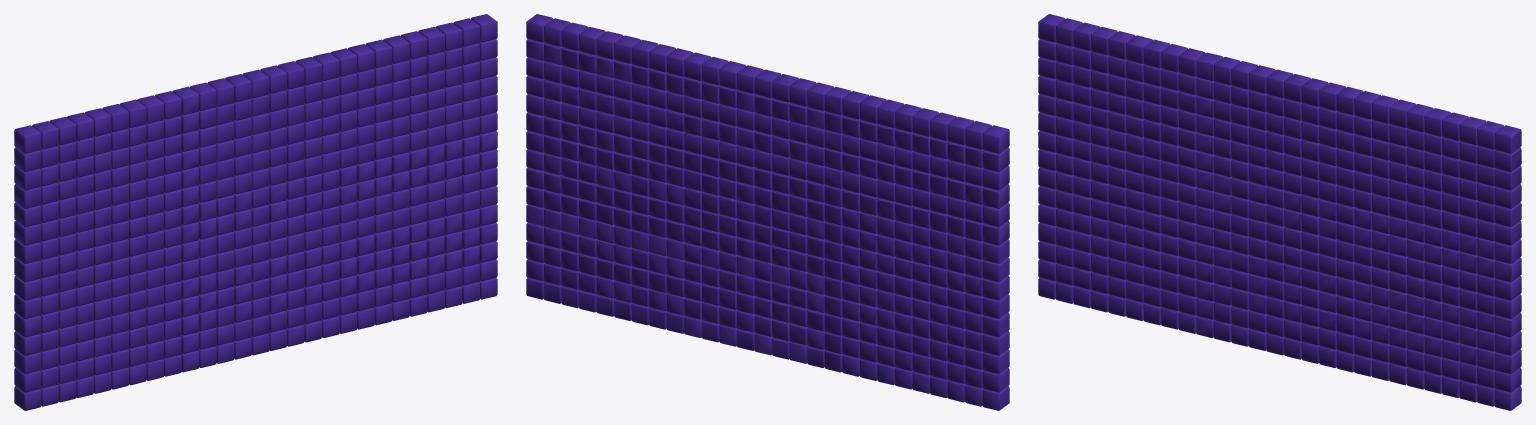
Rendered from back3.glb.
3 views of the same model, side by side, from view 1: azimuth 30°, elevation 25°; view 2: azimuth 150°, elevation 25°; view 3: azimuth 330°, elevation 25° (orthographic).
Visible parts, largest first — view 1: ICOM LOGO.622, ICOM LOGO.271, ICOM LOGO.379, ICOM LOGO.568, ICOM LOGO.325, ICOM LOGO.433, ICOM LOGO.460, ICOM LOGO.487, ICOM LOGO.514, ICOM LOGO.541, ICOM LOGO.595, ICOM LOGO.244 (+29 smaller); view 2: ICOM LOGO.622, ICOM LOGO.271, ICOM LOGO.352, ICOM LOGO.379, ICOM LOGO.460, ICOM LOGO.298, ICOM LOGO.406, ICOM LOGO.433, ICOM LOGO.487, ICOM LOGO.514, ICOM LOGO.568, ICOM LOGO.244 (+29 smaller); view 3: ICOM LOGO.648, ICOM LOGO.405, ICOM LOGO.297, ICOM LOGO.513, ICOM LOGO.540, ICOM LOGO.324, ICOM LOGO.459, ICOM LOGO.567, ICOM LOGO.594, ICOM LOGO.621, ICOM LOGO.486, ICOM LOGO.270 (+29 smaller).
Part boxes in pixels (bbox=[...]): ICOM LOGO.622: bbox=[14, 125, 41, 153]; ICOM LOGO.271: bbox=[14, 367, 41, 392]; ICOM LOGO.379: bbox=[14, 294, 41, 318]; ICOM LOGO.568: bbox=[14, 165, 41, 190]; ICOM LOGO.325: bbox=[14, 331, 41, 355]; ICOM LOGO.433: bbox=[14, 257, 41, 282]; ICOM LOGO.460: bbox=[14, 239, 41, 263]; ICOM LOGO.487: bbox=[14, 221, 41, 245]; ICOM LOGO.514: bbox=[14, 202, 41, 227]; ICOM LOGO.541: bbox=[14, 184, 41, 208]; ICOM LOGO.595: bbox=[14, 147, 41, 172]; ICOM LOGO.244: bbox=[14, 386, 41, 410]; ICOM LOGO.622: bbox=[982, 125, 1009, 153]; ICOM LOGO.271: bbox=[982, 367, 1009, 392]; ICOM LOGO.352: bbox=[982, 312, 1009, 337]; ICOM LOGO.379: bbox=[982, 294, 1009, 318]; ICOM LOGO.460: bbox=[982, 239, 1009, 263]; ICOM LOGO.298: bbox=[982, 349, 1009, 374]; ICOM LOGO.406: bbox=[982, 276, 1009, 300]; ICOM LOGO.433: bbox=[982, 257, 1009, 282]; ICOM LOGO.487: bbox=[982, 220, 1009, 245]; ICOM LOGO.514: bbox=[982, 202, 1009, 227]; ICOM LOGO.568: bbox=[982, 165, 1009, 190]; ICOM LOGO.244: bbox=[982, 386, 1009, 410]; ICOM LOGO.648: bbox=[1494, 125, 1521, 153]; ICOM LOGO.405: bbox=[1494, 294, 1521, 318]; ICOM LOGO.297: bbox=[1494, 367, 1521, 392]; ICOM LOGO.513: bbox=[1494, 220, 1521, 245]; ICOM LOGO.540: bbox=[1494, 202, 1521, 227]; ICOM LOGO.324: bbox=[1494, 349, 1521, 374]; ICOM LOGO.459: bbox=[1494, 257, 1521, 282]; ICOM LOGO.567: bbox=[1494, 184, 1521, 208]; ICOM LOGO.594: bbox=[1494, 165, 1521, 190]; ICOM LOGO.621: bbox=[1494, 147, 1521, 172]; ICOM LOGO.486: bbox=[1494, 239, 1521, 263]; ICOM LOGO.270: bbox=[1494, 386, 1521, 410].
Bounding box in the file's own units: 54.41 × 30.23 × 2.21.
